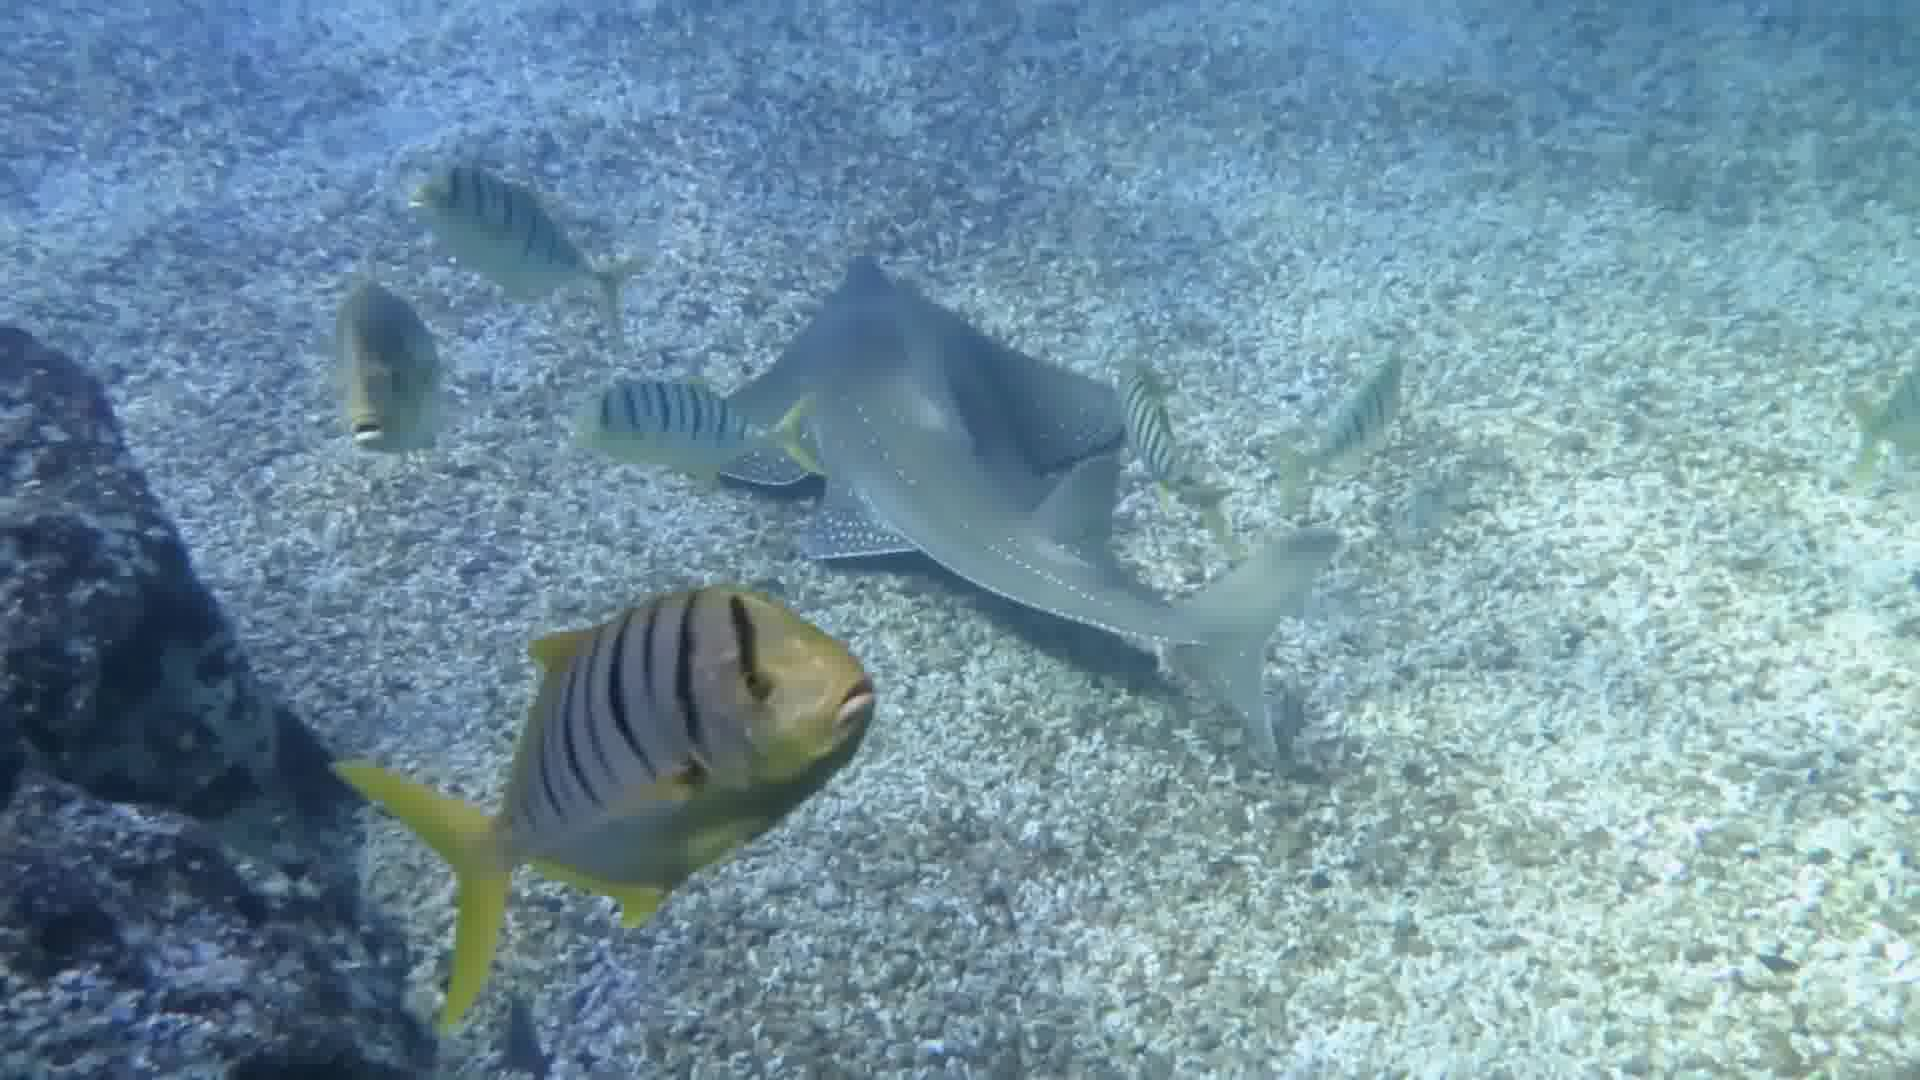Rhychobatus djiddensis: (791, 196, 1407, 720)
